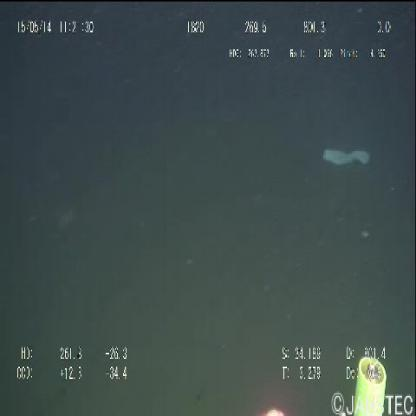Rác: (318, 142, 375, 182)
